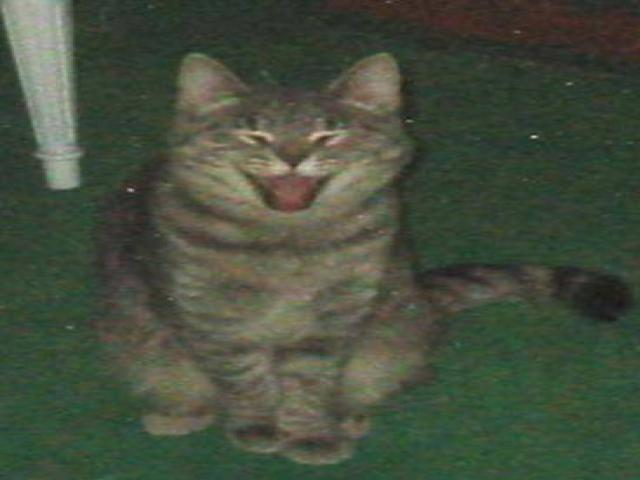cat: (98, 49, 553, 460)
